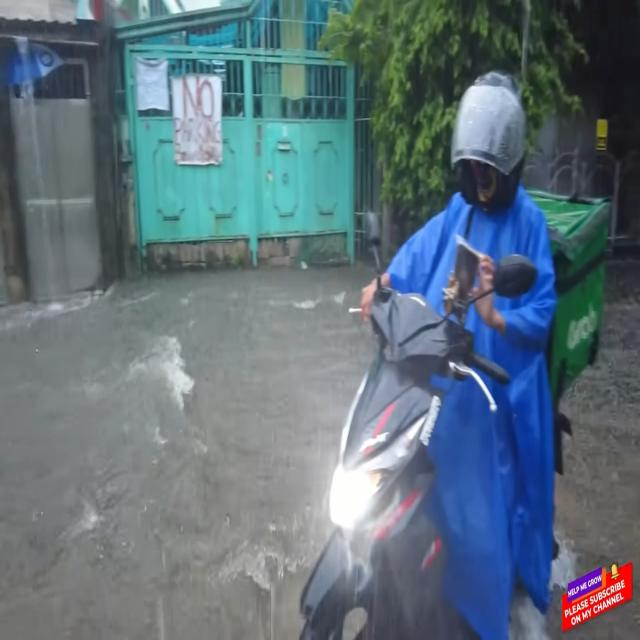half: (446, 66, 536, 223)
